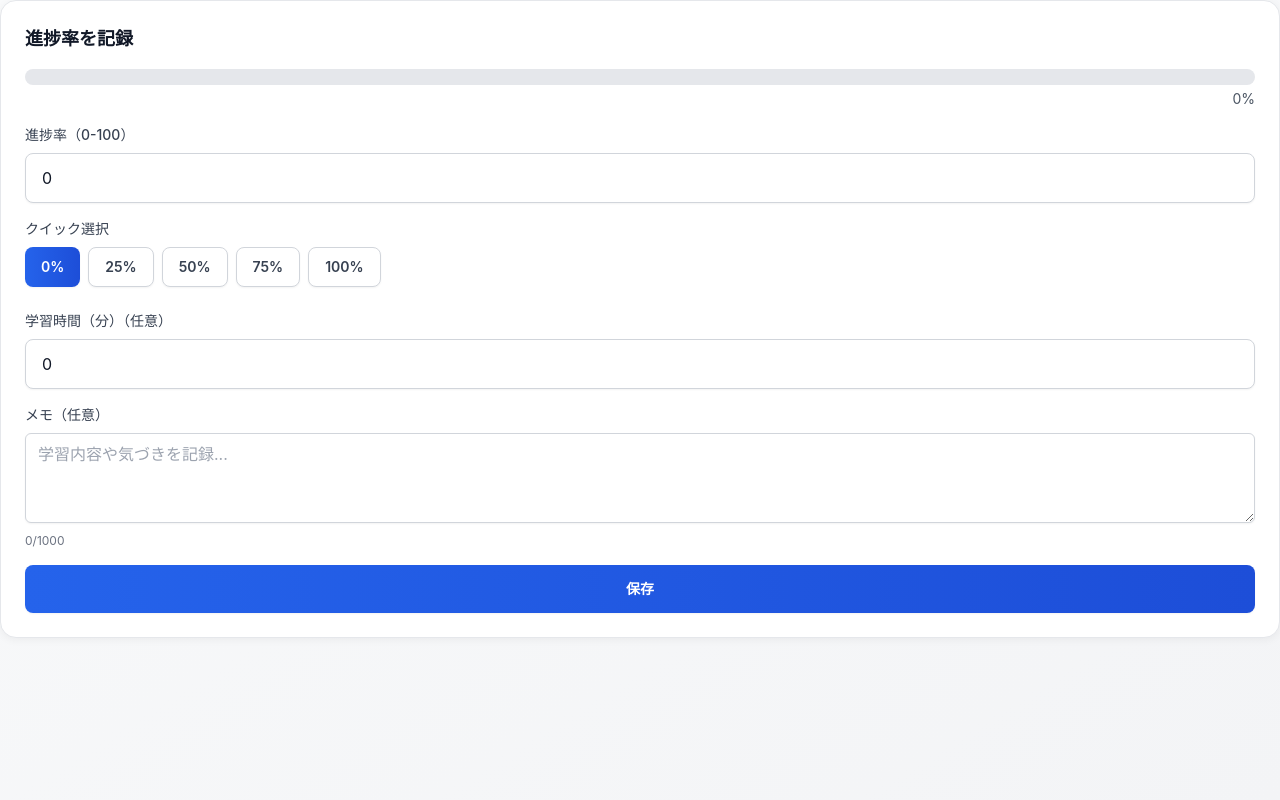
Test case: ProgressInputForm › タスク6.3: クイック選択ボタン › クイック選択ボタンをクリックすると進捗率が設定される
The image size is (1280, 800).
Click the button "75%".
click(268, 267)  # box [236,247,300,287]
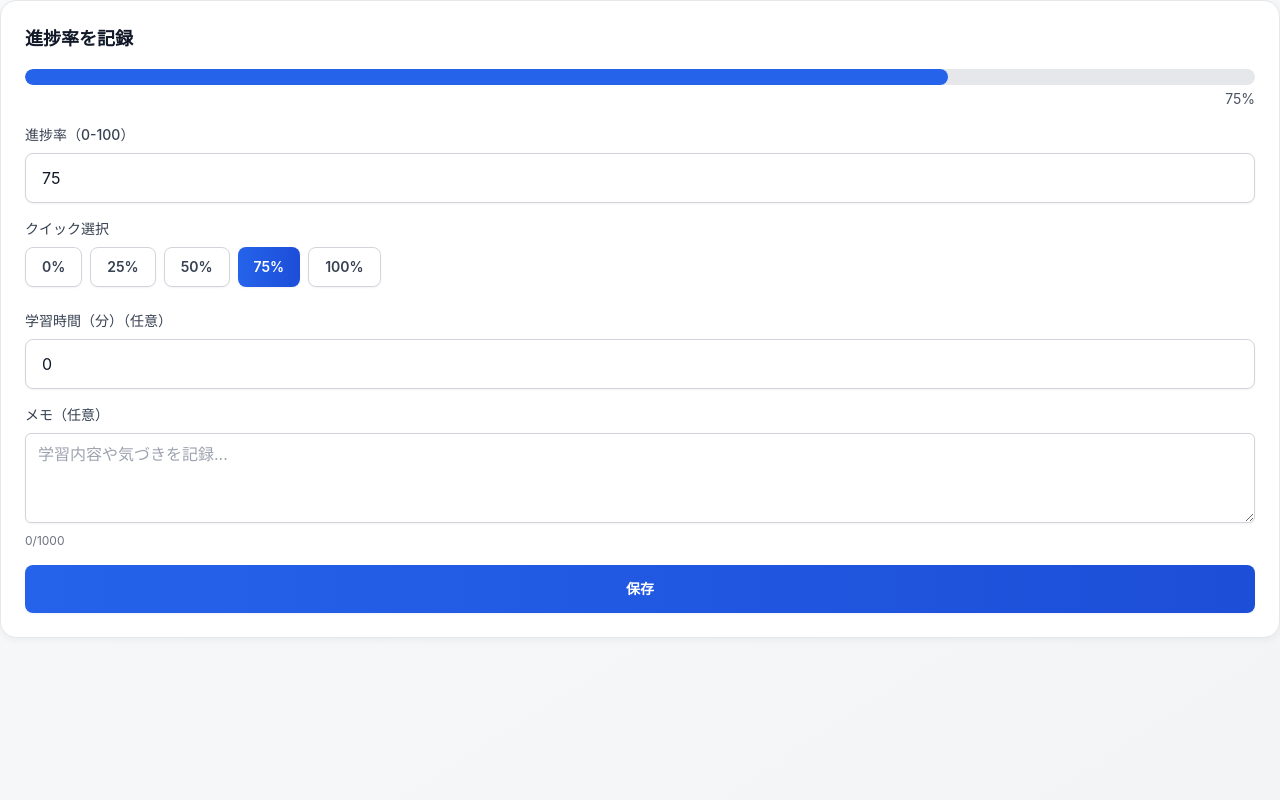
Result: the number field labelled "進捗率（0-100）" holds "75" at [25,153,1255,203]
